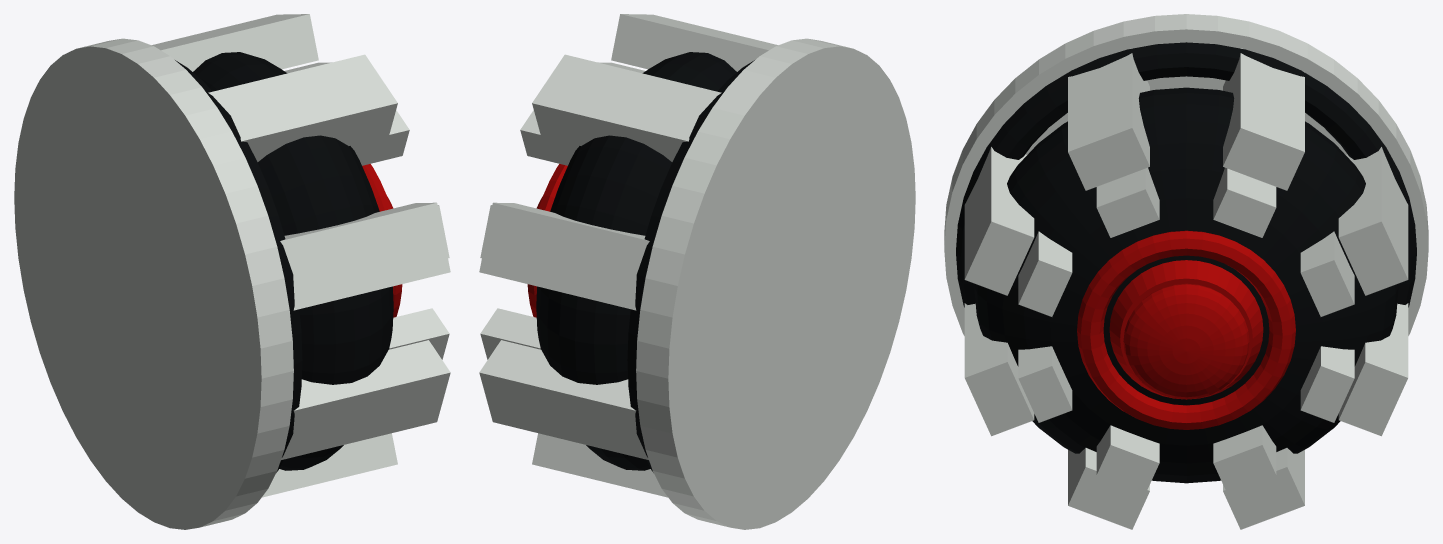
Rendered from SM_EnergyBallReceiver.obj.
The picture shows the model from 3 angles, left to right: view 1: azimuth 30°, elevation 25°; view 2: azimuth 150°, elevation 25°; view 3: azimuth 270°, elevation 25°; orthographic projection. The views are drawn at different scales.
Parts seen in each view (by area): view 1: SM_EnergyBallReceiver; view 2: SM_EnergyBallReceiver; view 3: SM_EnergyBallReceiver.
Boxes of the visible parts, x1,y1,x2,y2 form: SM_EnergyBallReceiver: [14, 14, 450, 529]; SM_EnergyBallReceiver: [479, 14, 915, 529]; SM_EnergyBallReceiver: [944, 14, 1428, 529].
Bounding box in the file's own units: 84 × 146 × 146.
